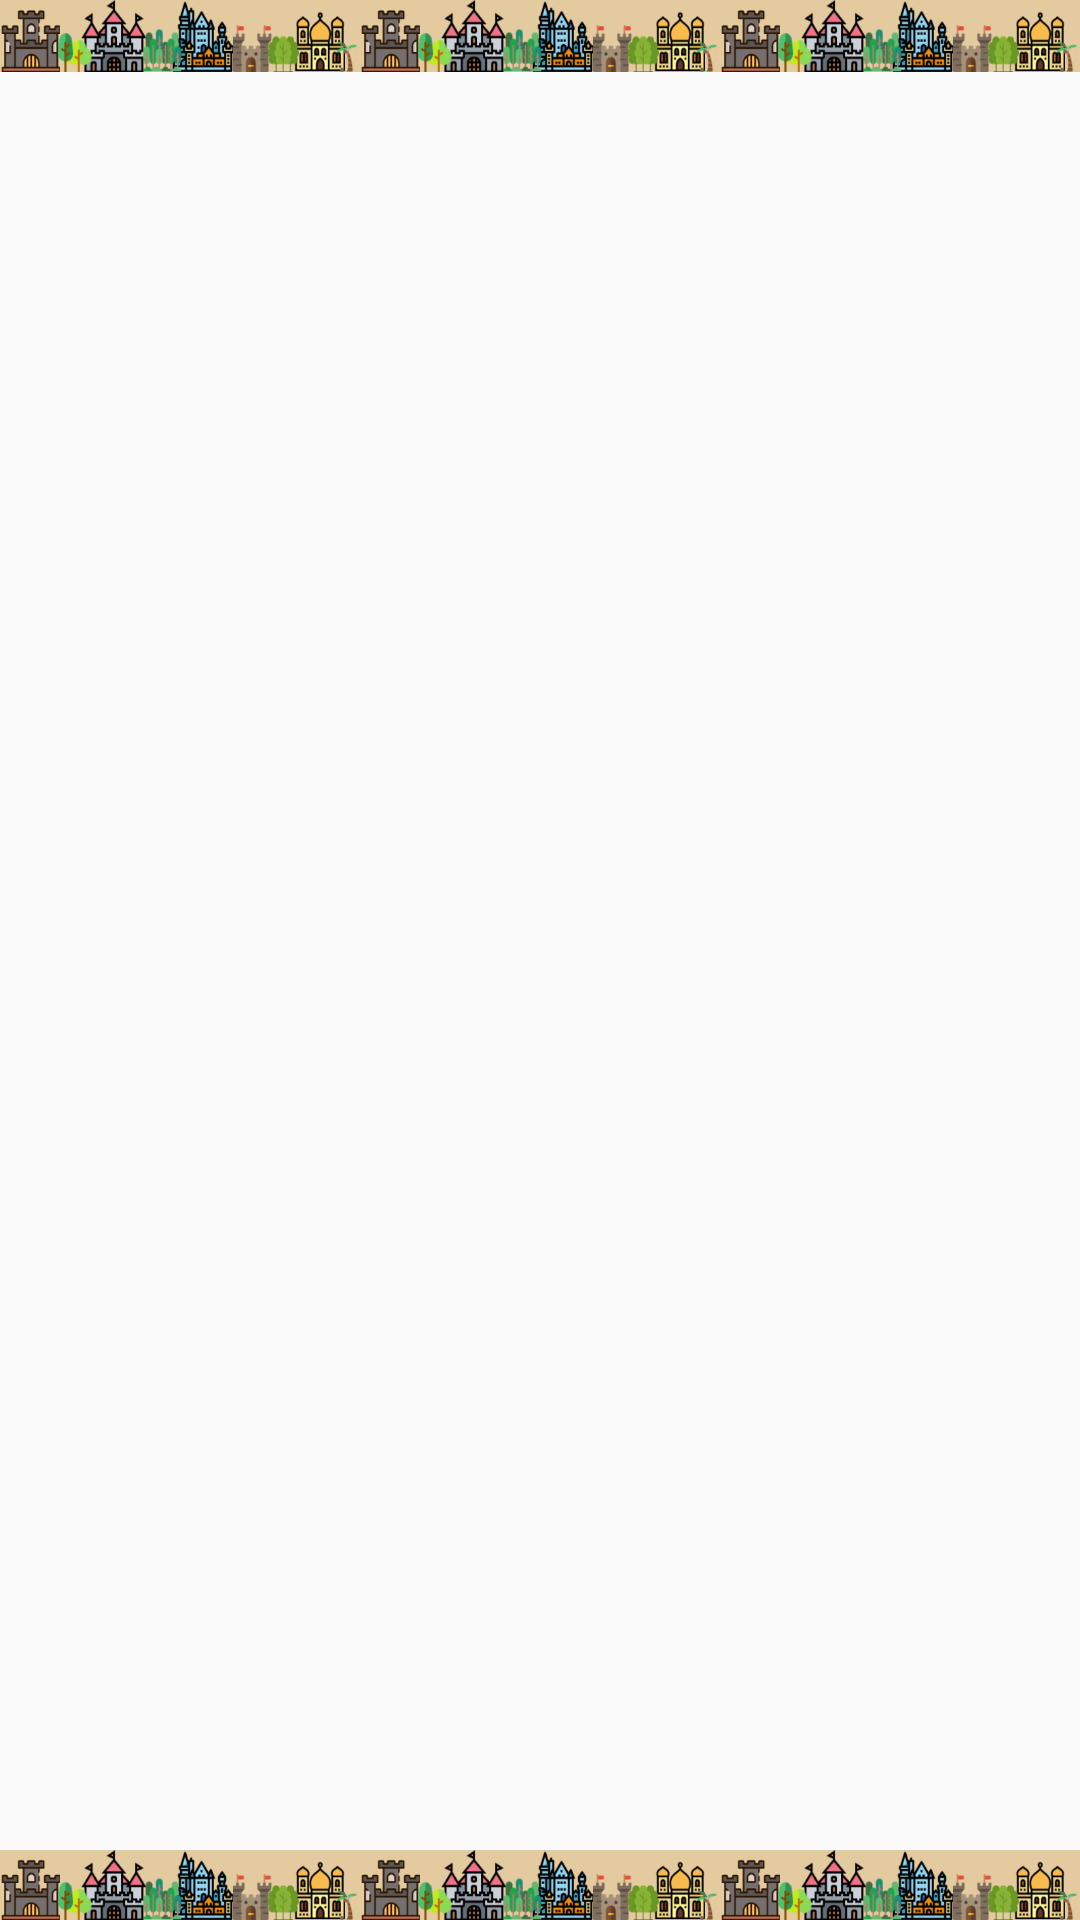

Named icons in this screenshot (1080 x 1920) and their bounding boxes, (x1, y1, x2, y2):
sonpattern: (0, 0, 360, 72), (360, 0, 720, 72), (720, 0, 1080, 72), (0, 1850, 360, 1920), (360, 1850, 720, 1920), (720, 1850, 1080, 1920)
